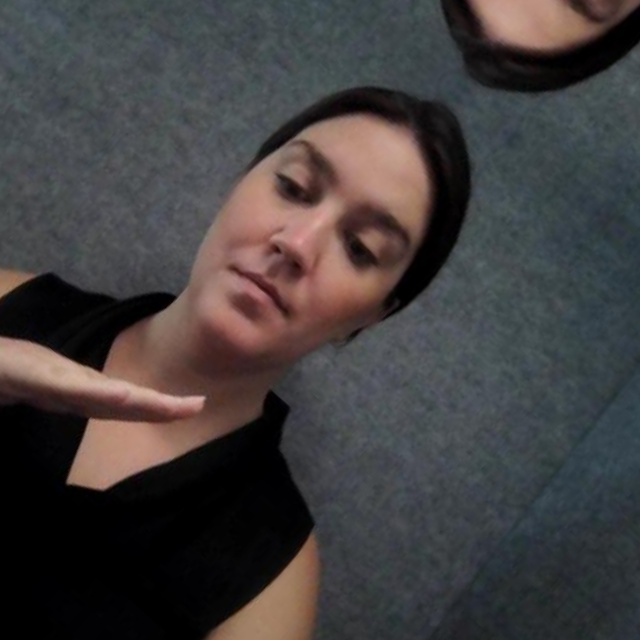Paper: (0, 248, 231, 537)
